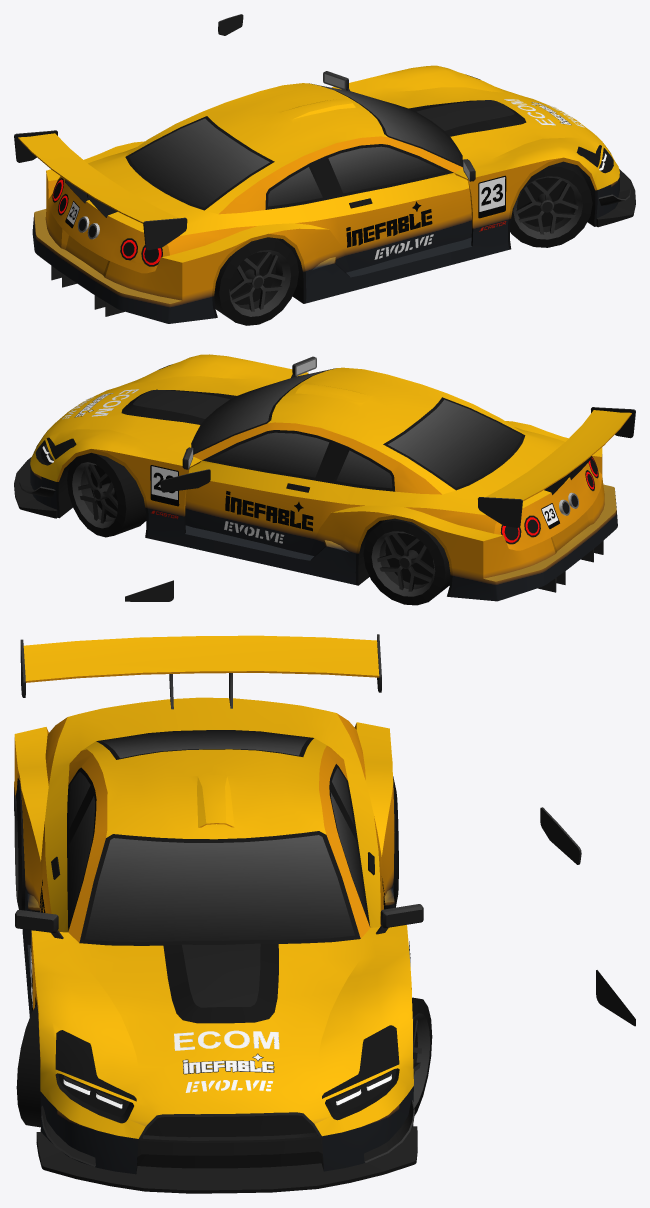
Rendered from RaceCar_003.glb.
The picture shows the model from 3 angles, top to bottom: view 1: azimuth 30°, elevation 25°; view 2: azimuth 150°, elevation 25°; view 3: azimuth 270°, elevation 25°; orthographic projection. The views are drawn at different scales.
Parts seen in each view (by area): view 1: RaceCar_003, wheel_2_RaceCar_003_Wheel_3R, wheel_0_RaceCar_003_Wheel_1R; view 2: RaceCar_003, wheel_3_RaceCar_003_Wheel_4L, wheel_1_RaceCar_003_Wheel_2L; view 3: RaceCar_003, wheel_0_RaceCar_003_Wheel_1R, wheel_1_RaceCar_003_Wheel_2L, wheel_2_RaceCar_003_Wheel_3R.
Part boxes in pixels (left/top/right/bottom): RaceCar_003: left=14, top=14, right=635, bottom=323; wheel_2_RaceCar_003_Wheel_3R: left=214, top=237, right=298, bottom=325; wheel_0_RaceCar_003_Wheel_1R: left=510, top=161, right=592, bottom=247; RaceCar_003: left=14, top=354, right=635, bottom=601; wheel_3_RaceCar_003_Wheel_4L: left=363, top=518, right=450, bottom=605; wheel_1_RaceCar_003_Wheel_2L: left=67, top=452, right=146, bottom=537; RaceCar_003: left=14, top=634, right=635, bottom=1193; wheel_0_RaceCar_003_Wheel_1R: left=16, top=1004, right=40, bottom=1127; wheel_1_RaceCar_003_Wheel_2L: left=412, top=997, right=432, bottom=1115; wheel_2_RaceCar_003_Wheel_3R: left=14, top=781, right=25, bottom=910.
Size of the model in its own units: 4.96 by 1.22 by 3.37.
Materials: 3 (3 with a texture image).
